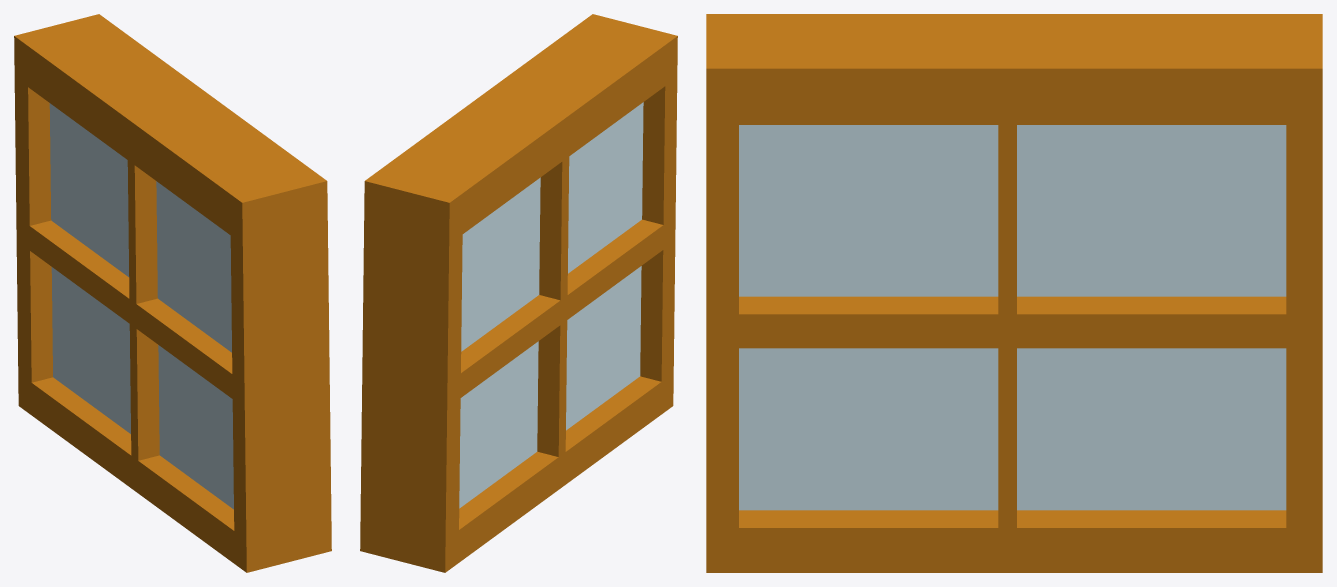
The model's file is ventana8.obj.
3 views of the same model, side by side, from view 1: azimuth 30°, elevation 25°; view 2: azimuth 150°, elevation 25°; view 3: azimuth 270°, elevation 25° (orthographic). The views are drawn at different scales.
Visible parts, largest first — view 1: pasted__pasted__pasted__pasted__pasted__pasted__pasted__pCube17 ; view 2: pasted__pasted__pasted__pasted__pasted__pasted__pasted__pCube17 ; view 3: pasted__pasted__pasted__pasted__pasted__pasted__pasted__pCube17 .
Part boxes in pixels (x1,y1,x2,y2): pasted__pasted__pasted__pasted__pasted__pasted__pasted__pCube17 : (14, 14, 331, 572); pasted__pasted__pasted__pasted__pasted__pasted__pasted__pCube17 : (360, 14, 677, 572); pasted__pasted__pasted__pasted__pasted__pasted__pasted__pCube17 : (706, 14, 1322, 572).
Bounding box in the file's own units: 0.2472 × 0.9819 × 1.09.
Materials: 1 (1 with a texture image).
